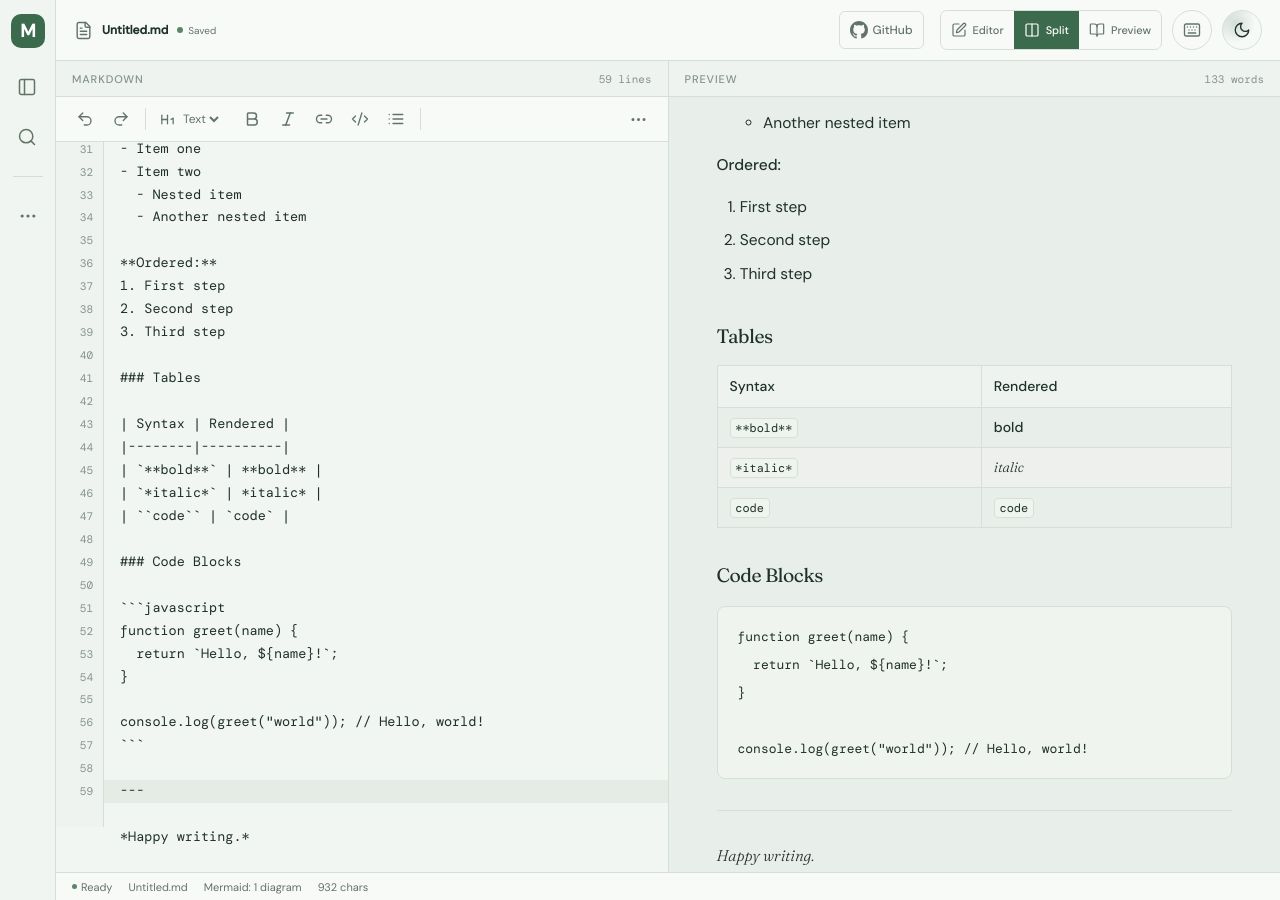
Test: Markdown Studio responsive shell › falls back to the browser file input when showOpenFilePicker fails
(page scrolled)
Click the button named "Document actions": (28,216) [7,195,49,237]
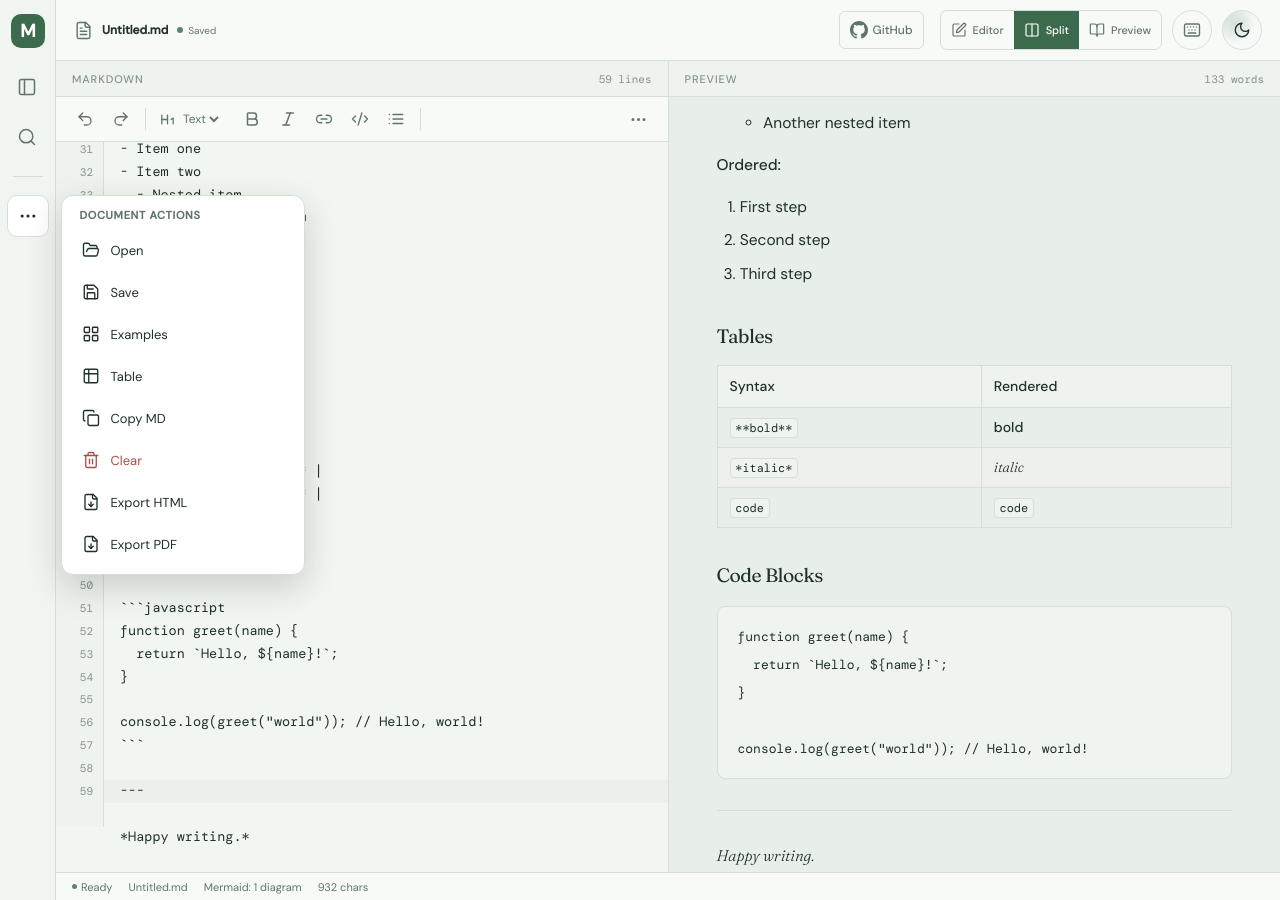
Click the button with aria-label "Open document": (183,250) [72,230,294,270]
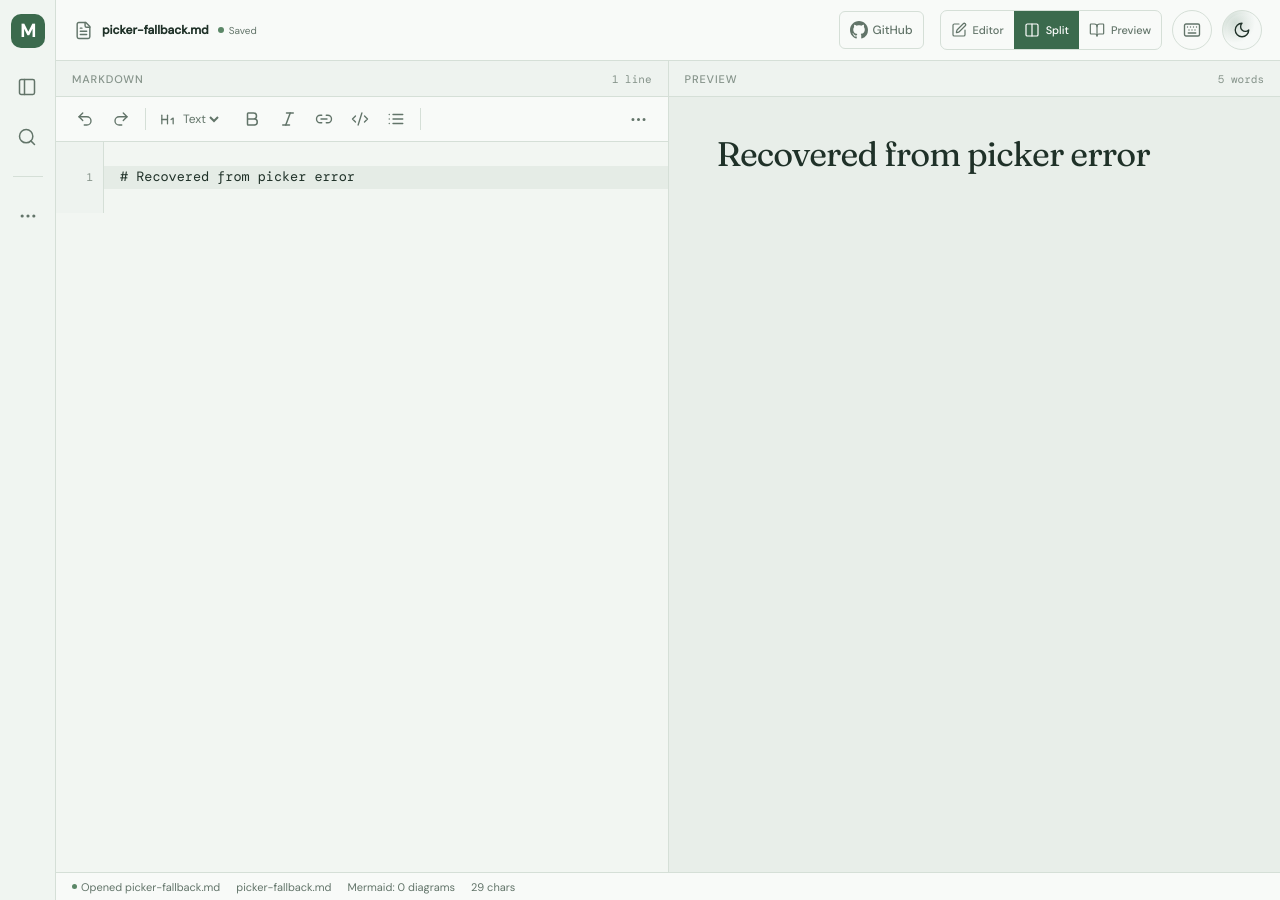
Now the text box holds "# Recovered from picker error", box [56,142,668,872]
Now the text with class "status-item--document" reads "picker-fallback.md", box [236,880,331,894]
Now the element with class "status-bar" reads "Opened picker-fallback.md", box [81,880,220,894]
